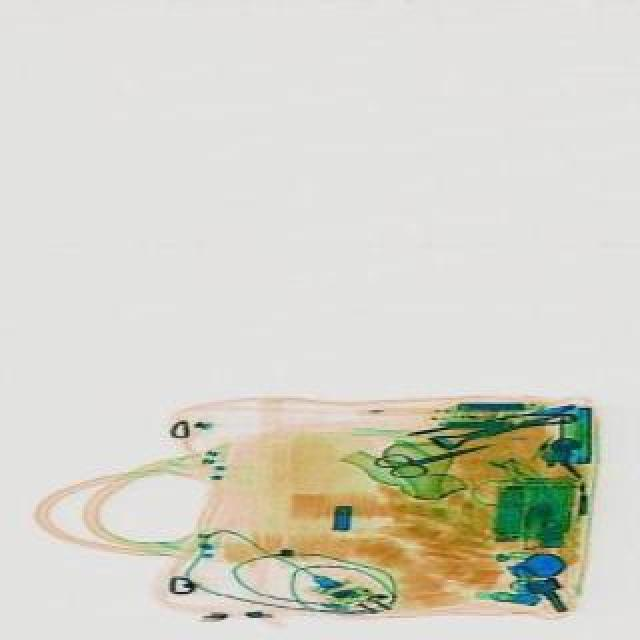pliers: (368, 430, 490, 484)
